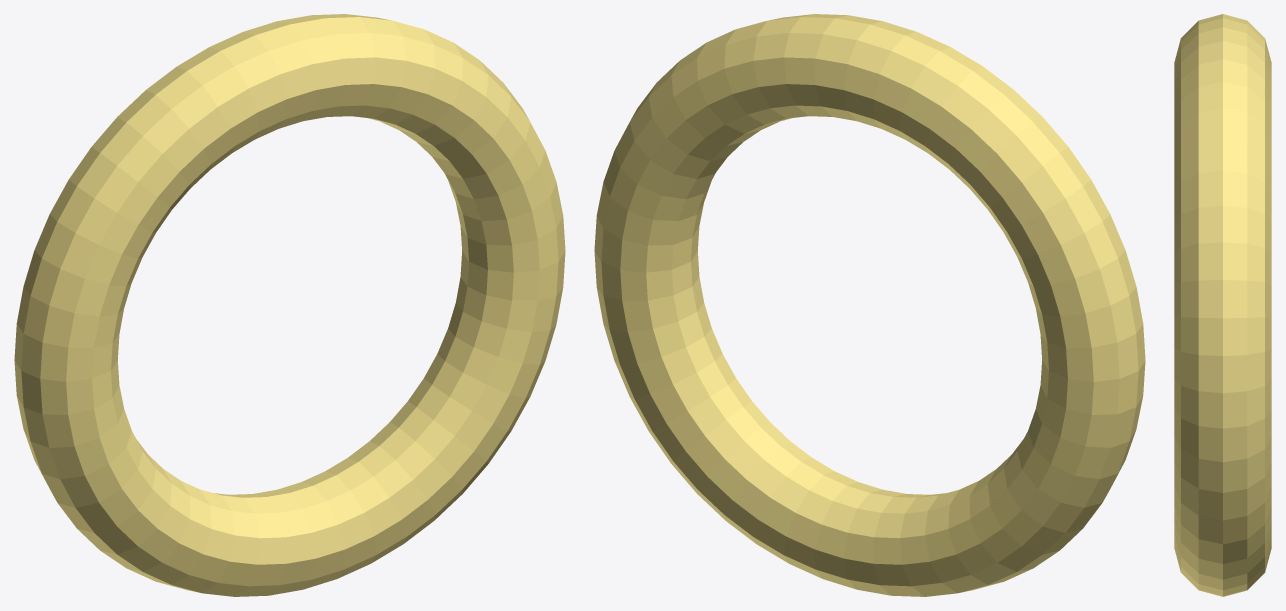
File: ring.glb
3 views of the same model, side by side, from view 1: azimuth 30°, elevation 25°; view 2: azimuth 150°, elevation 25°; view 3: azimuth 270°, elevation 25° (orthographic). The views are drawn at different scales.
Parts seen in each view (by area): view 1: Ring; view 2: Ring; view 3: Ring.
Boxes of the visible parts, x1,y1,x2,y2 form: Ring: [14, 14, 565, 596]; Ring: [594, 14, 1145, 596]; Ring: [1174, 14, 1271, 596].
Size of the model in its own units: 2.4 by 2.4 by 0.4.
